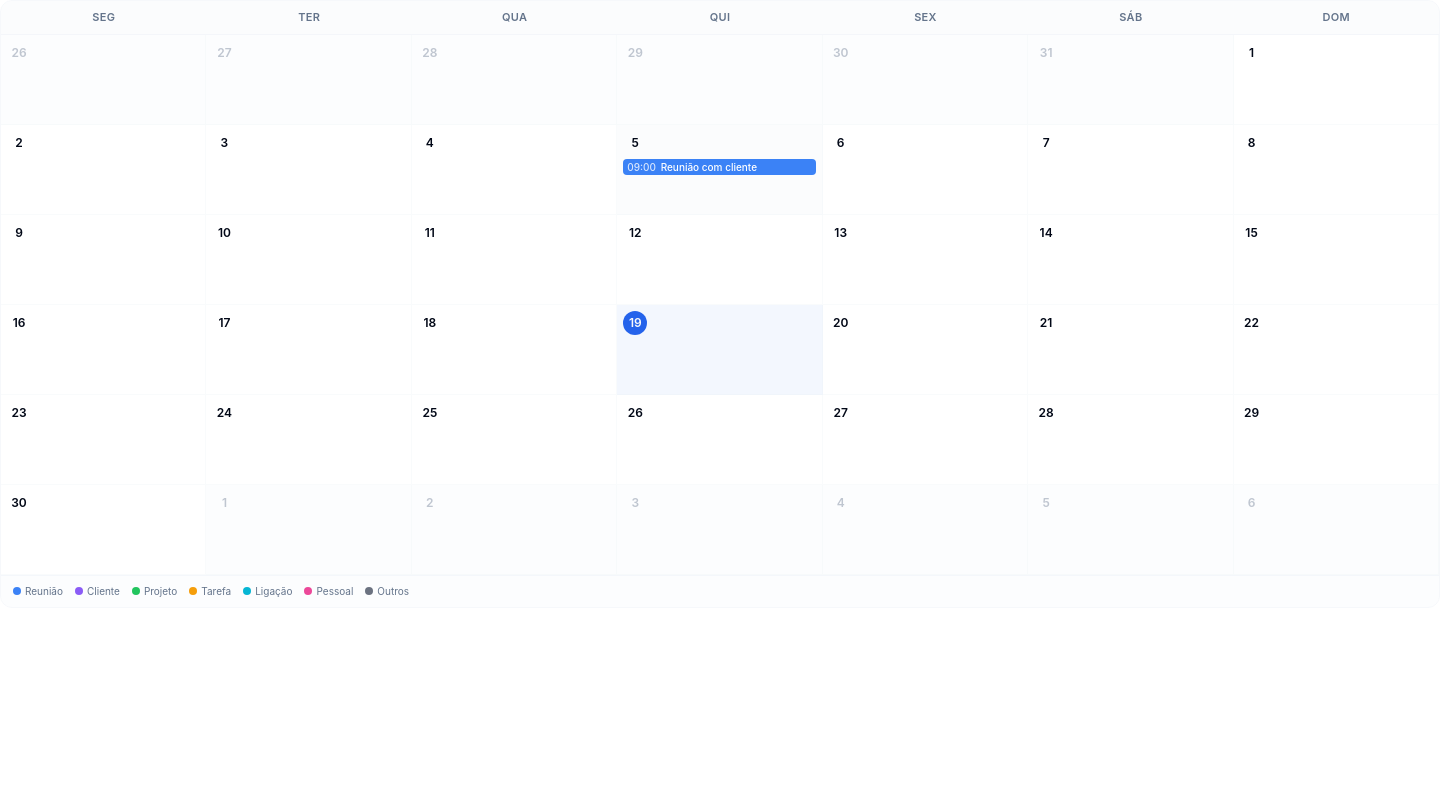
Scenario: AgendaMonthView › offers no answer actions for a personal event even with the callbacks supplied
This screenshot has width=1440, height=810.
What coordinates should you click on to do the following:
click the text "Reunião com cliente"
I would click on:
 (720, 167)
Its box is [623, 158, 816, 175].
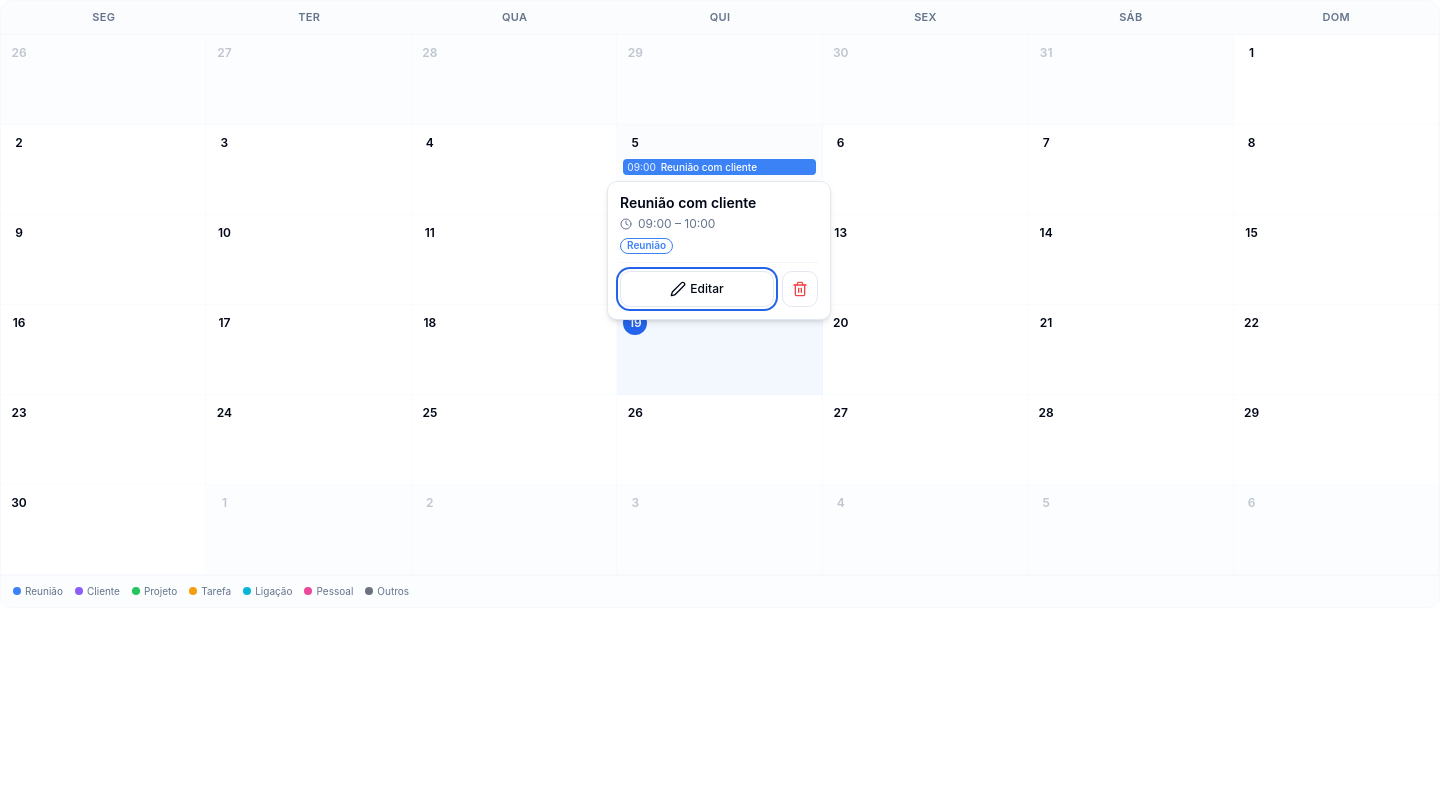
Expected: the button "Editar" is shown, [620, 270, 774, 306]
